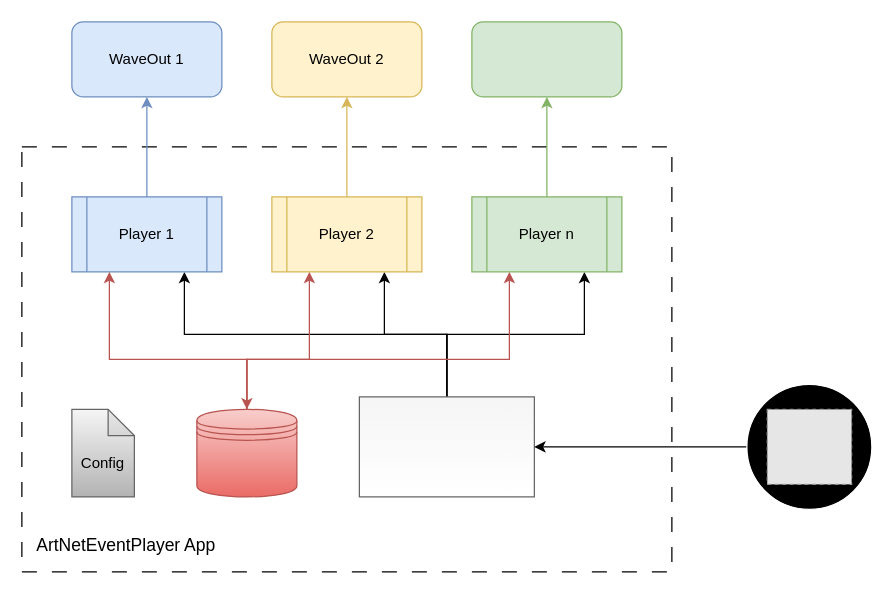
Image size: 894x594. Some labels were removed from this diagram. Grey dashed boxes stand in for pictures. Here are the shapes that lost their labels. From the top down, the box of each, then its label:
(471, 21, 622, 97): WaveOut n
(196, 408, 297, 497): Track Library
(358, 396, 534, 497): ArtNet Receiver
